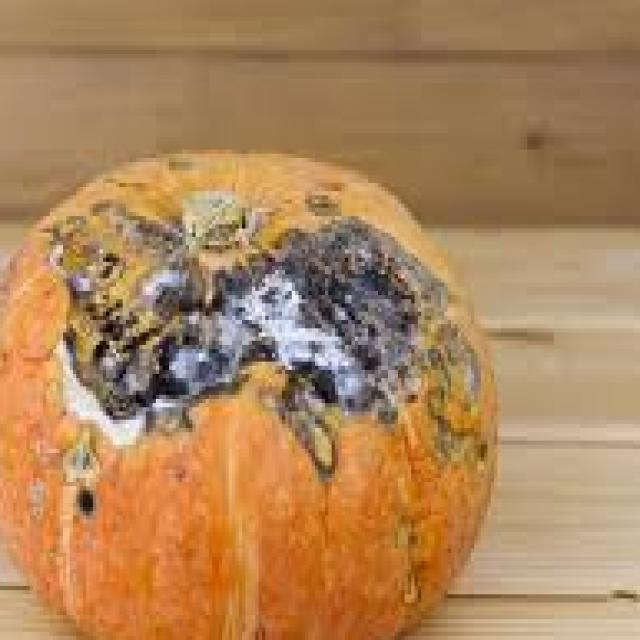inorganic: (6, 112, 509, 635)
